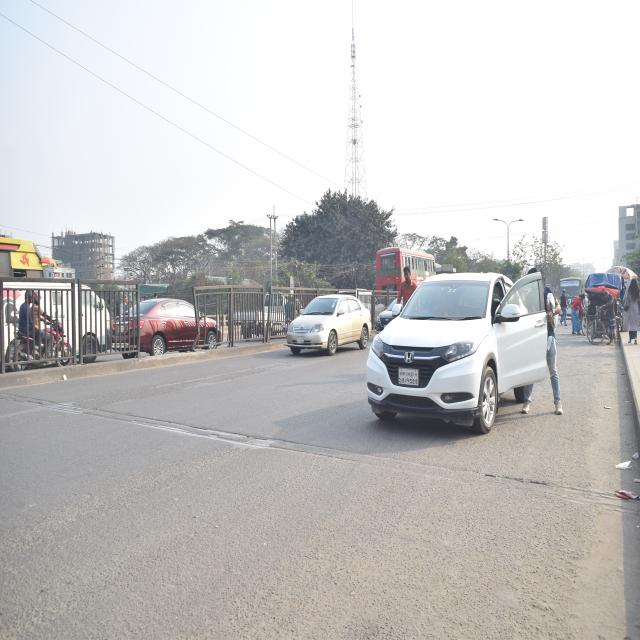bus: (559, 275, 580, 320)
car: (367, 268, 543, 442), (119, 292, 223, 358), (282, 291, 370, 364)
